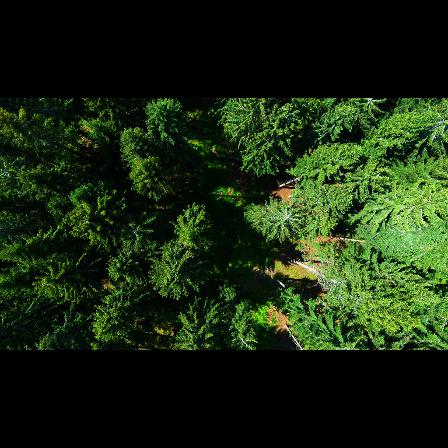Sick: (264, 195, 309, 240)
